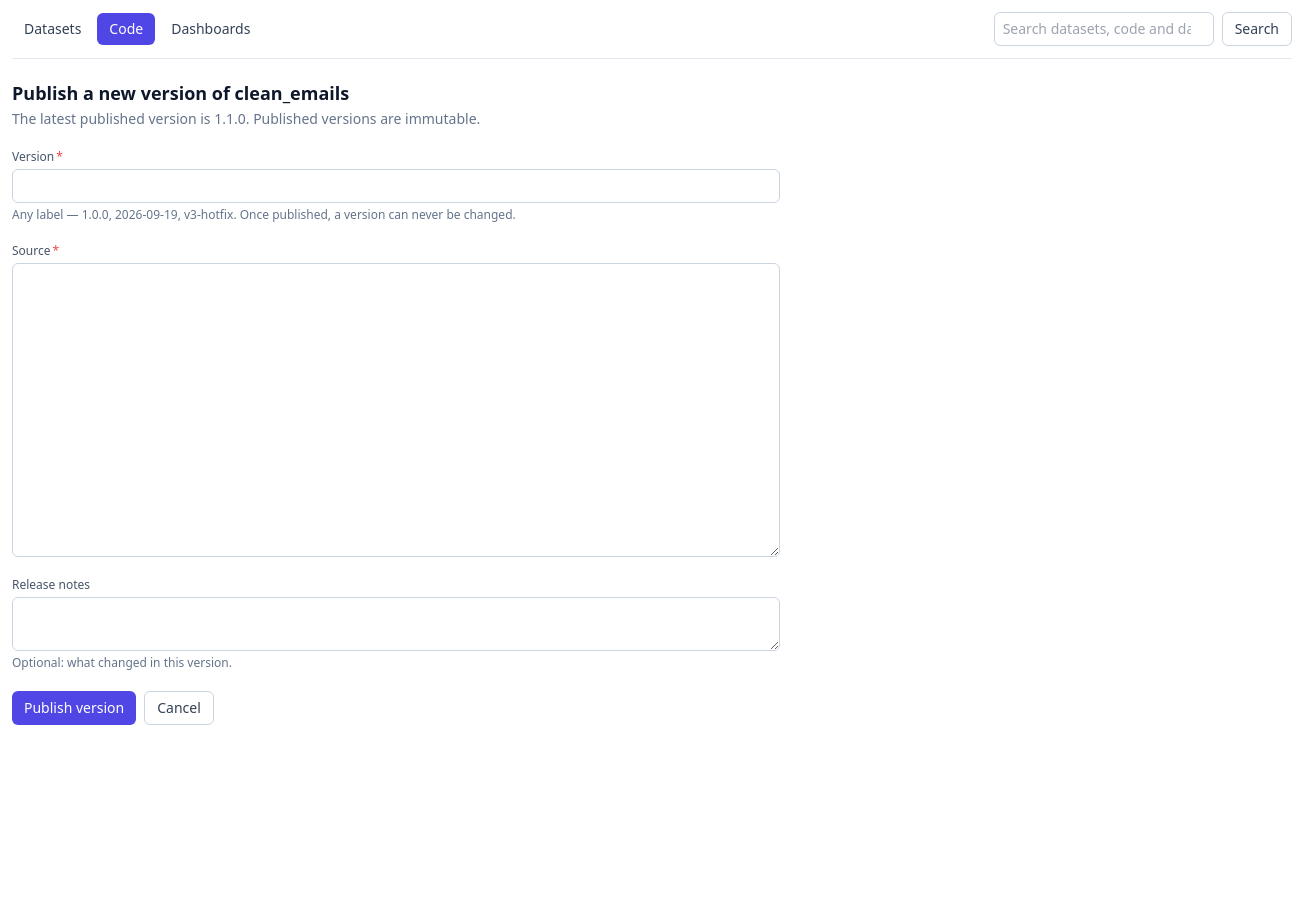
Test case: code › explains that a published version can't be republished
The width and height of the screenshot is (1304, 912).
Type "1.0.0" into the field labelled "Version*" at (396, 186), box x1=12 y1=169 x2=780 y2=203
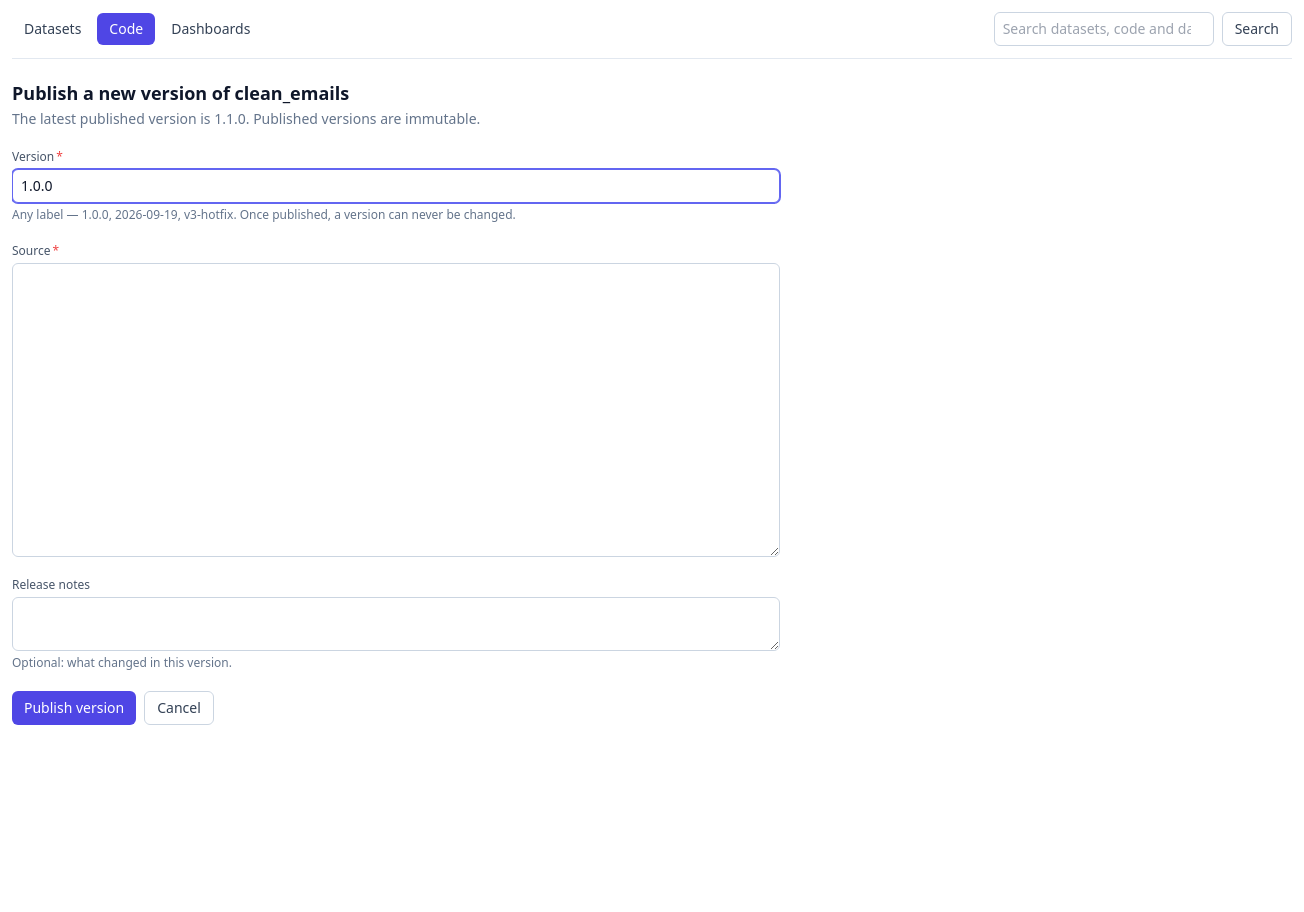
Type "tampered" into the text box labelled "Source*" at (396, 410), box x1=12 y1=263 x2=780 y2=557
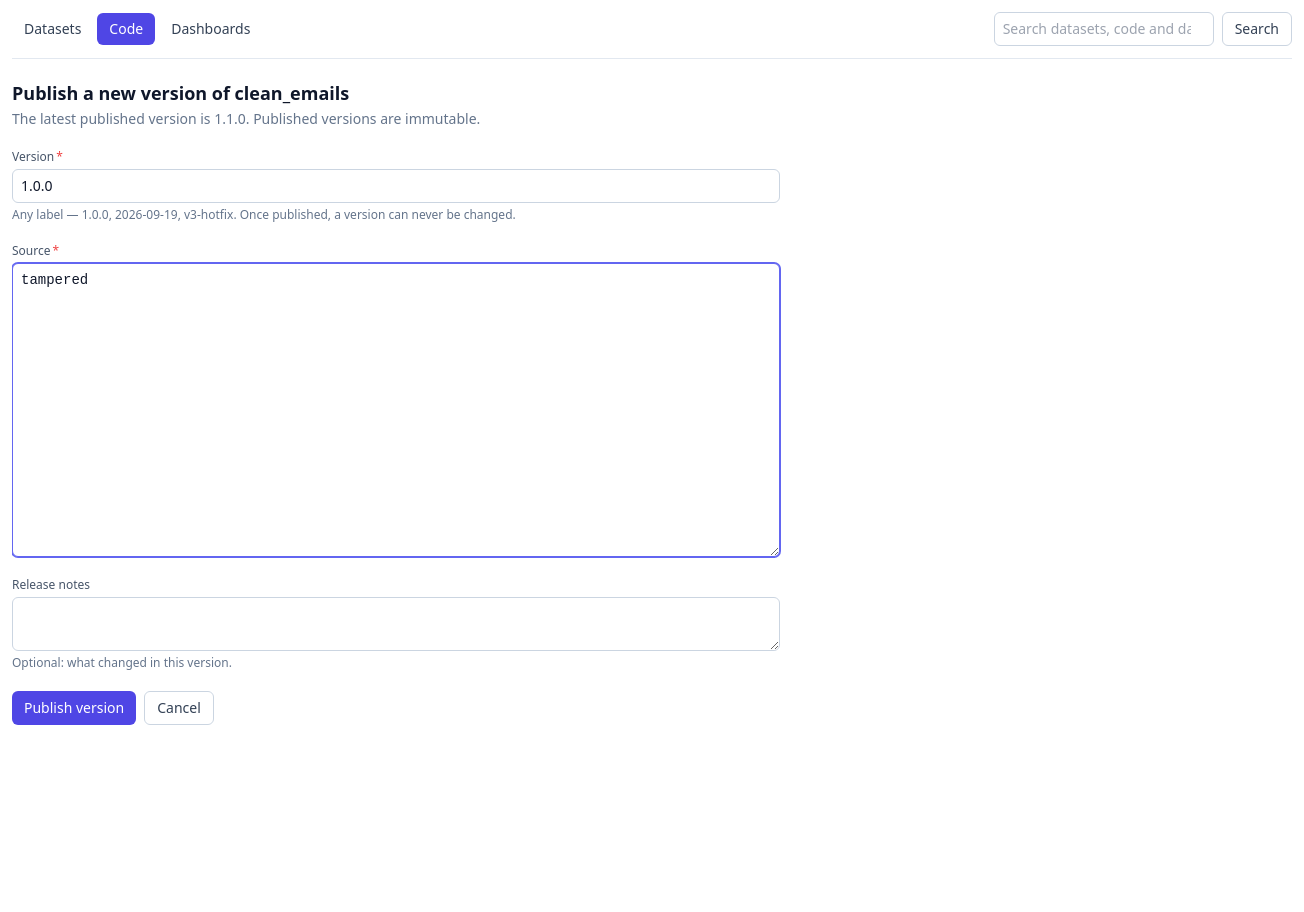
Click the button "Publish version" at (74, 708), box x1=12 y1=691 x2=136 y2=725
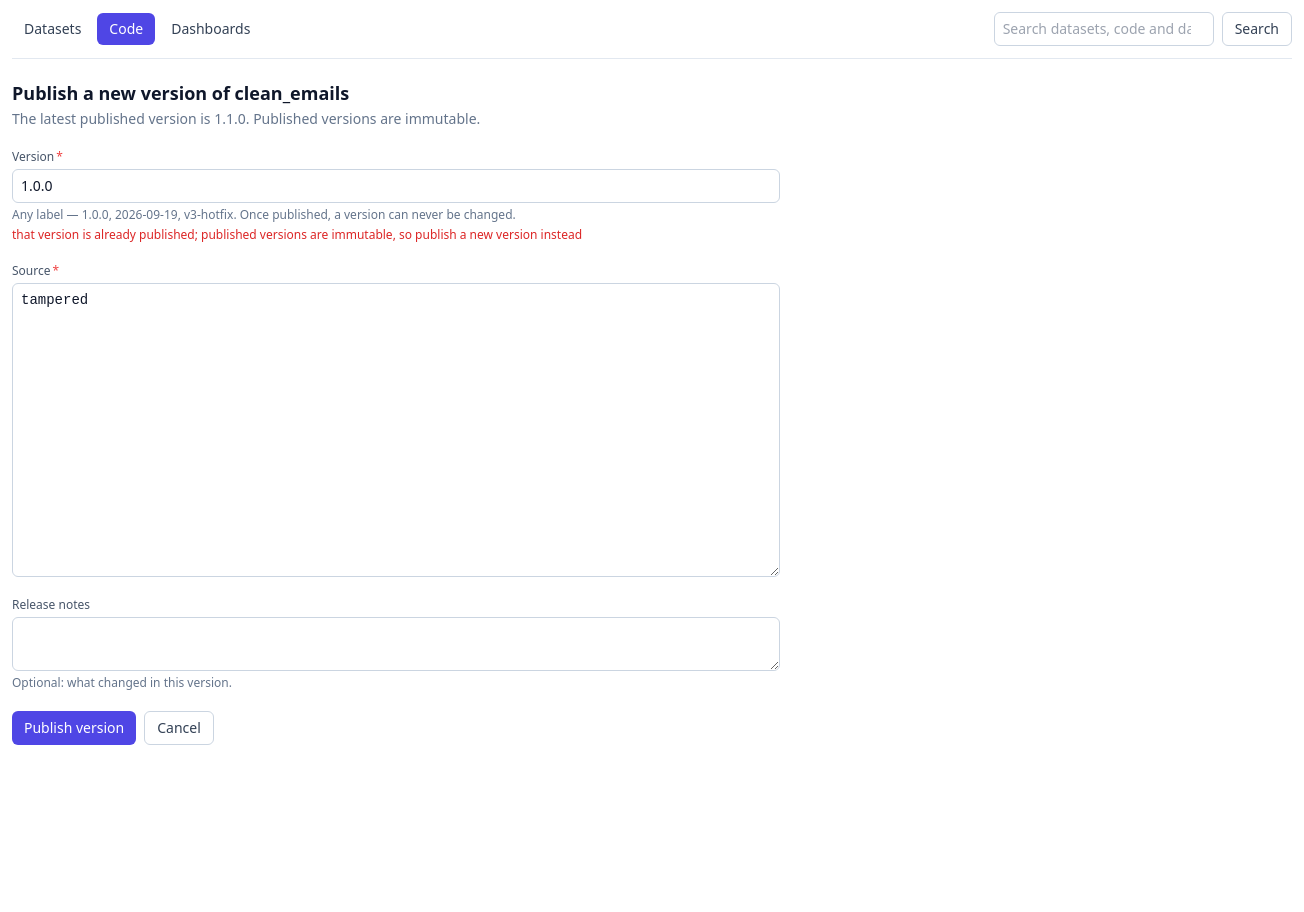
expect the message shows "immutable": met, box x1=12 y1=226 x2=582 y2=243
